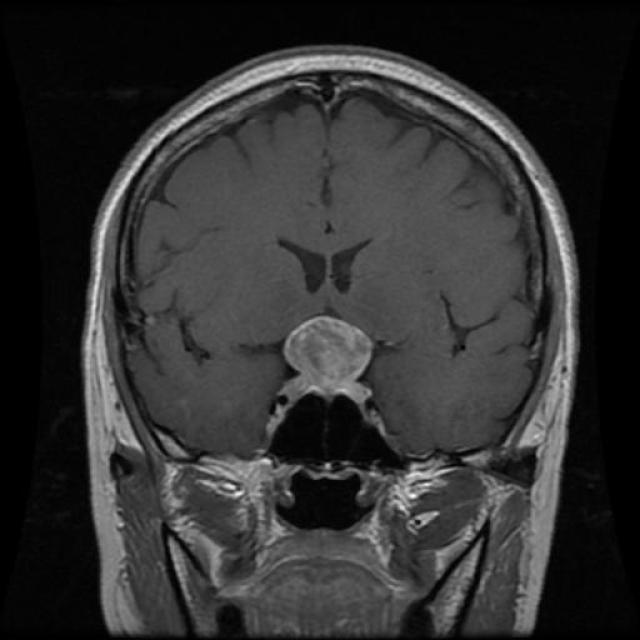pituitary: (279, 304, 382, 412)
